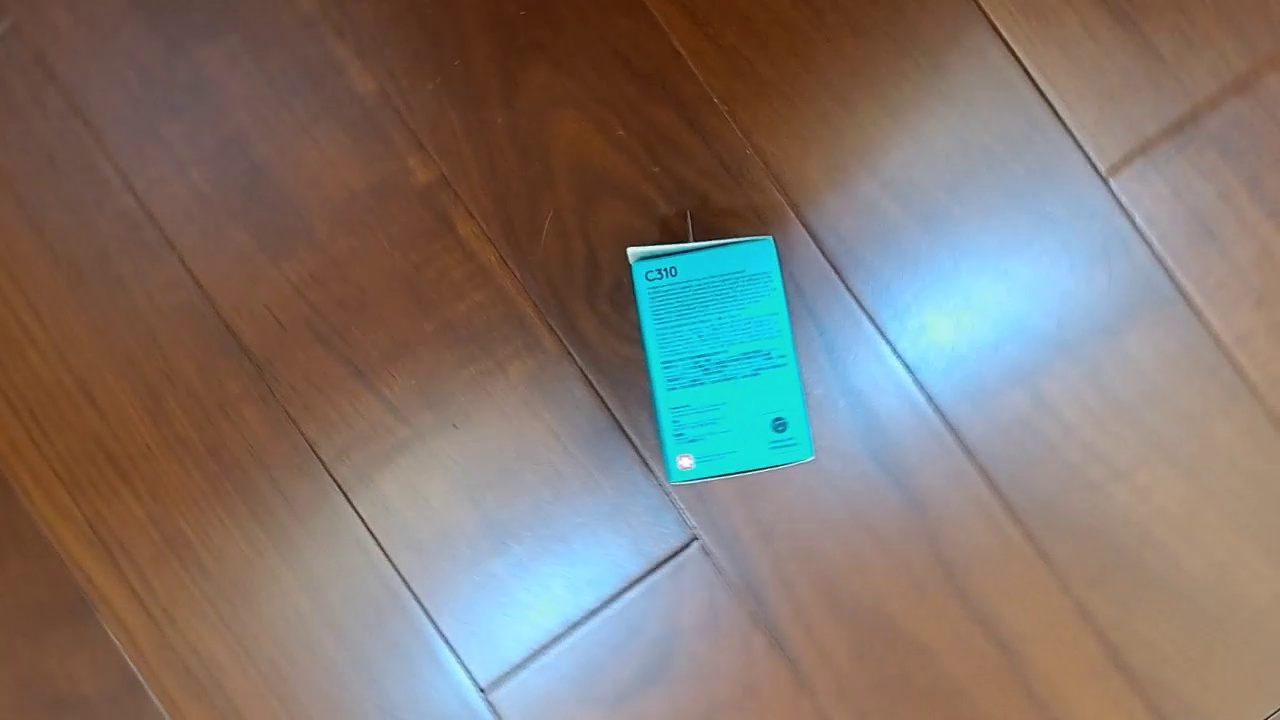webcam: (625, 233, 817, 486)
